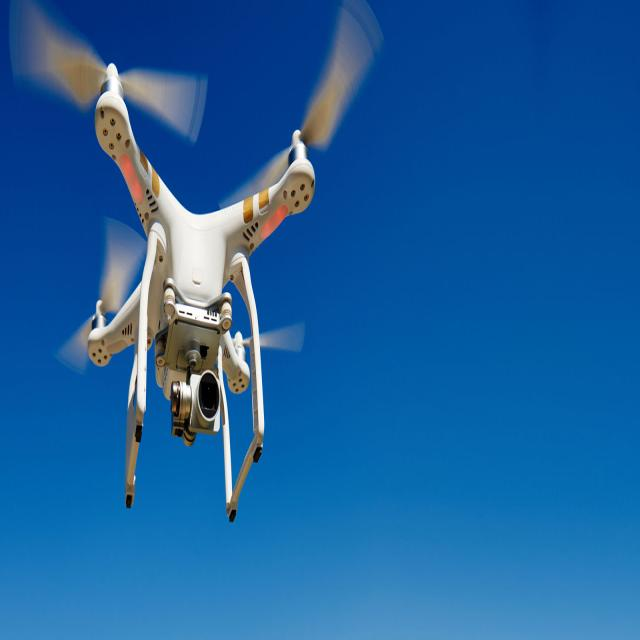drone: (33, 26, 384, 446)
